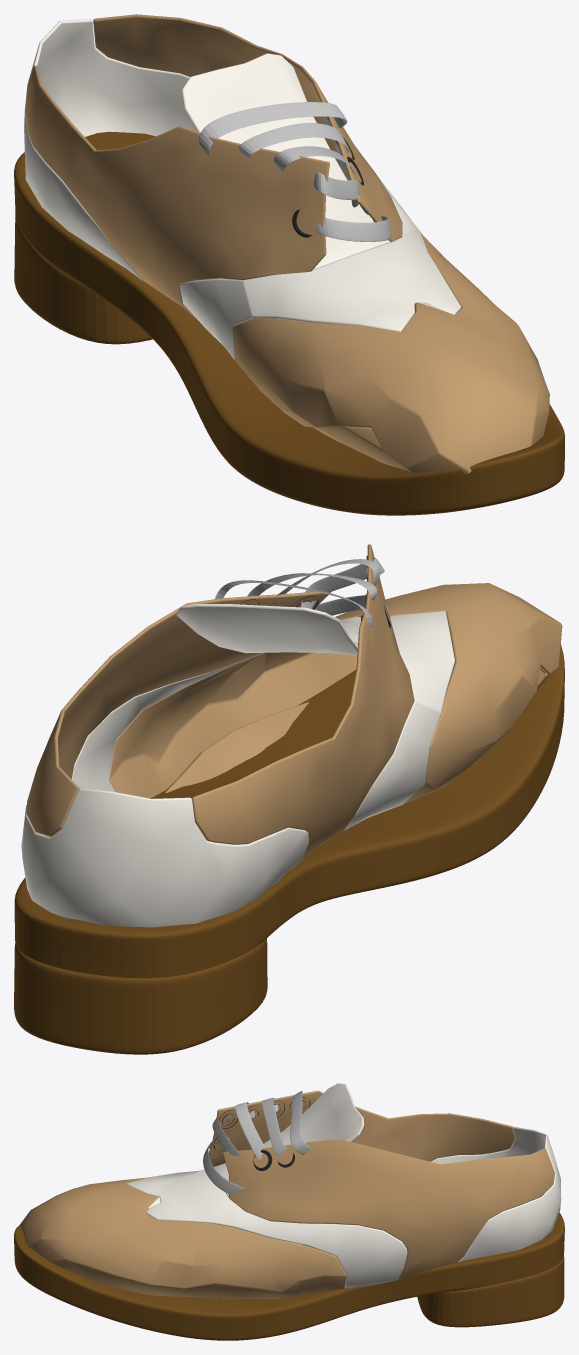
Rendered from za2in1izquierda.fbx.
3 views of the same model, one above another, from view 1: azimuth 30°, elevation 25°; view 2: azimuth 150°, elevation 25°; view 3: azimuth 270°, elevation 25° (orthographic). The views are drawn at different scales.
Parts seen in each view (by area): view 1: zapato2, Plane, Plane.004, Plane.003, Plane.005, Plane.002, Plane.001; view 2: zapato2, Plane, Plane.002, Plane.003, Plane.005, Plane.004; view 3: zapato2, Plane, Plane.001, Plane.003, Plane.004, Plane.005, Plane.002.
Boxes of the visible parts, x1,y1,x2,y2 form: zapato2: (24, 14, 549, 474); Plane: (14, 131, 564, 515); Plane.004: (198, 102, 347, 154); Plane.003: (239, 123, 348, 159); Plane.005: (316, 216, 391, 241); Plane.002: (313, 171, 359, 207); Plane.001: (273, 146, 356, 174); zapato2: (21, 544, 562, 927); Plane: (14, 626, 564, 1054); Plane.002: (301, 558, 384, 608); Plane.003: (247, 573, 377, 610); Plane.005: (314, 595, 388, 615); Plane.004: (215, 580, 372, 627); zapato2: (19, 1083, 561, 1298); Plane: (14, 1209, 564, 1340); Plane.001: (235, 1102, 265, 1160); Plane.003: (261, 1098, 286, 1156); Plane.004: (290, 1091, 311, 1154); Plane.005: (203, 1137, 244, 1193); Plane.002: (212, 1115, 240, 1155).
Size of the model in its own units: 169 by 176 by 447.
